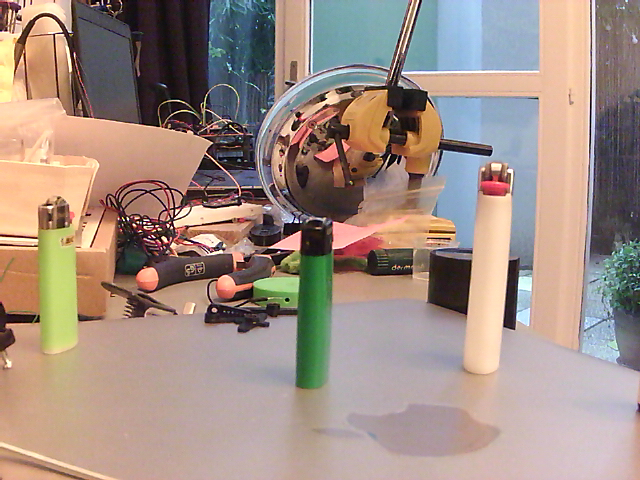lighter: (460, 159, 514, 380), (32, 193, 80, 355), (293, 216, 333, 390)
